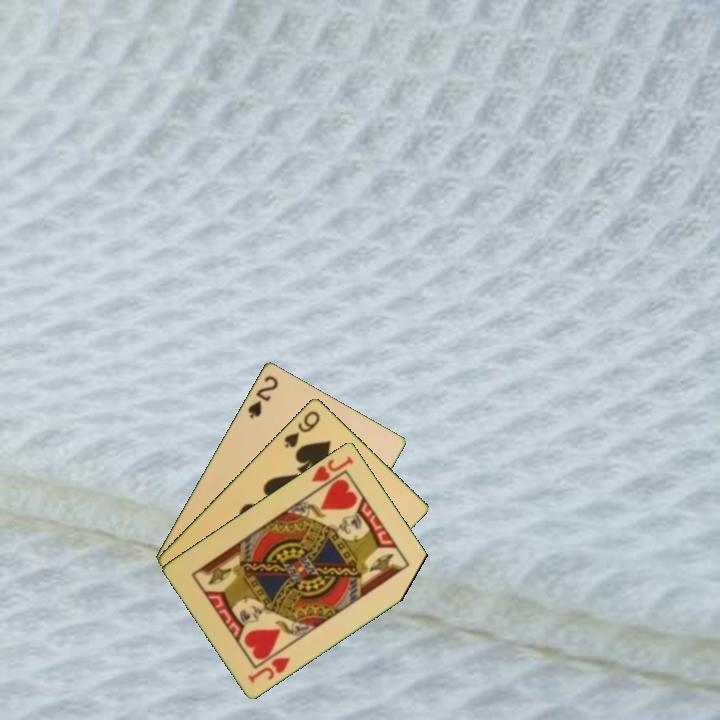2s: (244, 371, 281, 421)
9s: (281, 407, 323, 451)
Jh: (244, 653, 293, 686), (308, 452, 356, 485)
